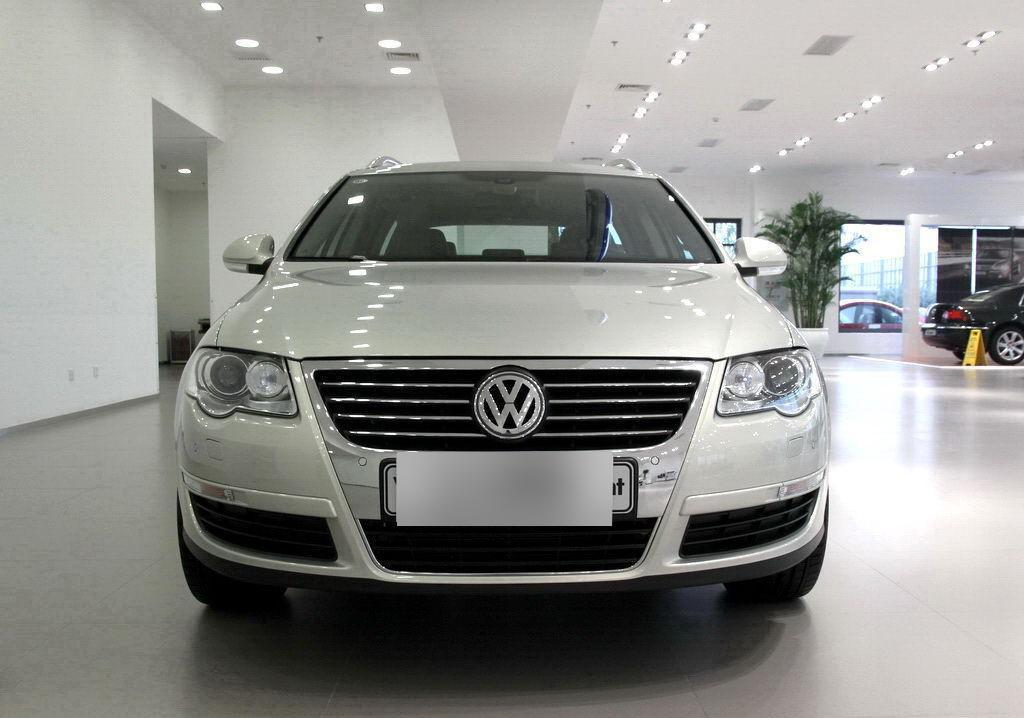Wagon: (173, 155, 832, 603)
